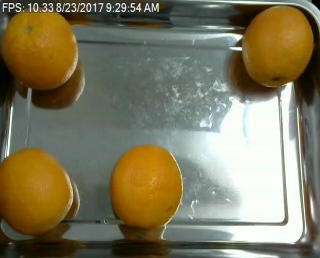Orange: (1, 147, 74, 234), (110, 142, 183, 229), (242, 5, 313, 88), (1, 12, 78, 88)
